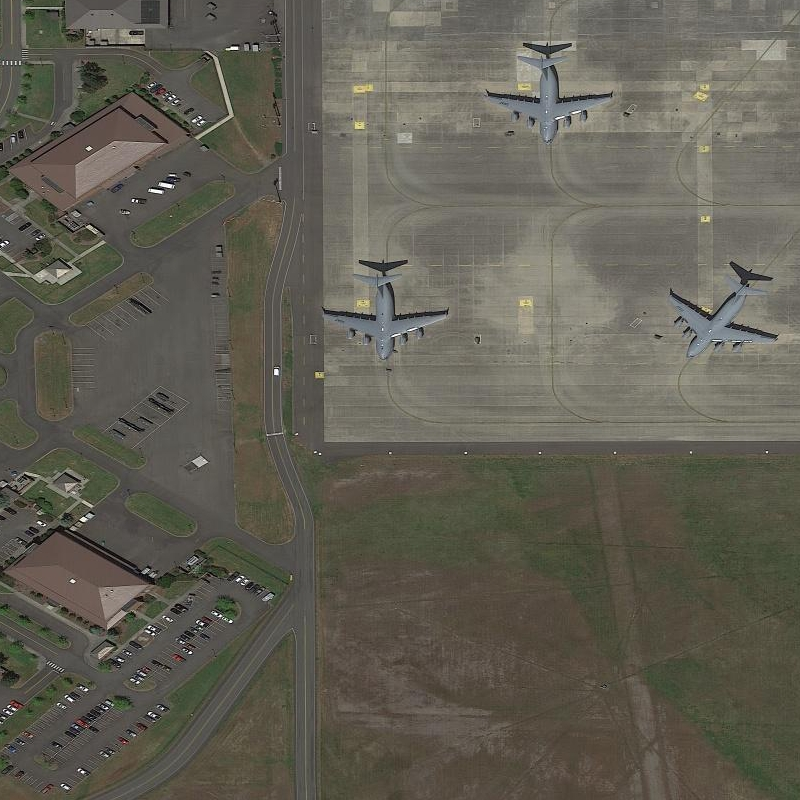A3: (321, 257, 457, 366), (477, 45, 613, 150), (659, 266, 783, 363)
